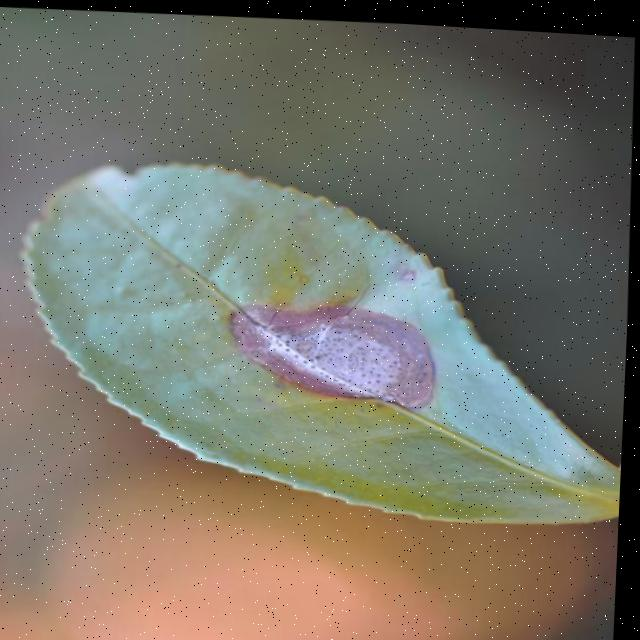Tea cloud leaf blight: (222, 287, 441, 408)
